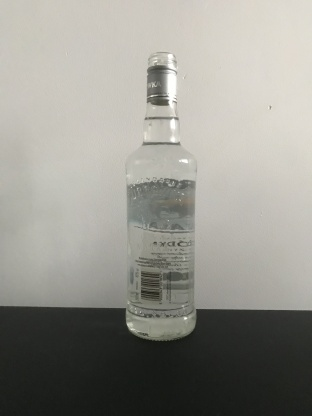nakretka: (144, 50, 179, 107)
